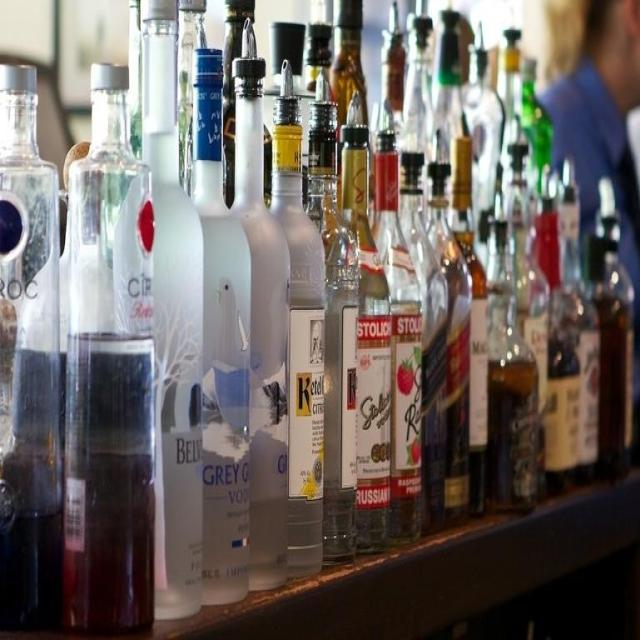Glass: (7, 42, 632, 552)
